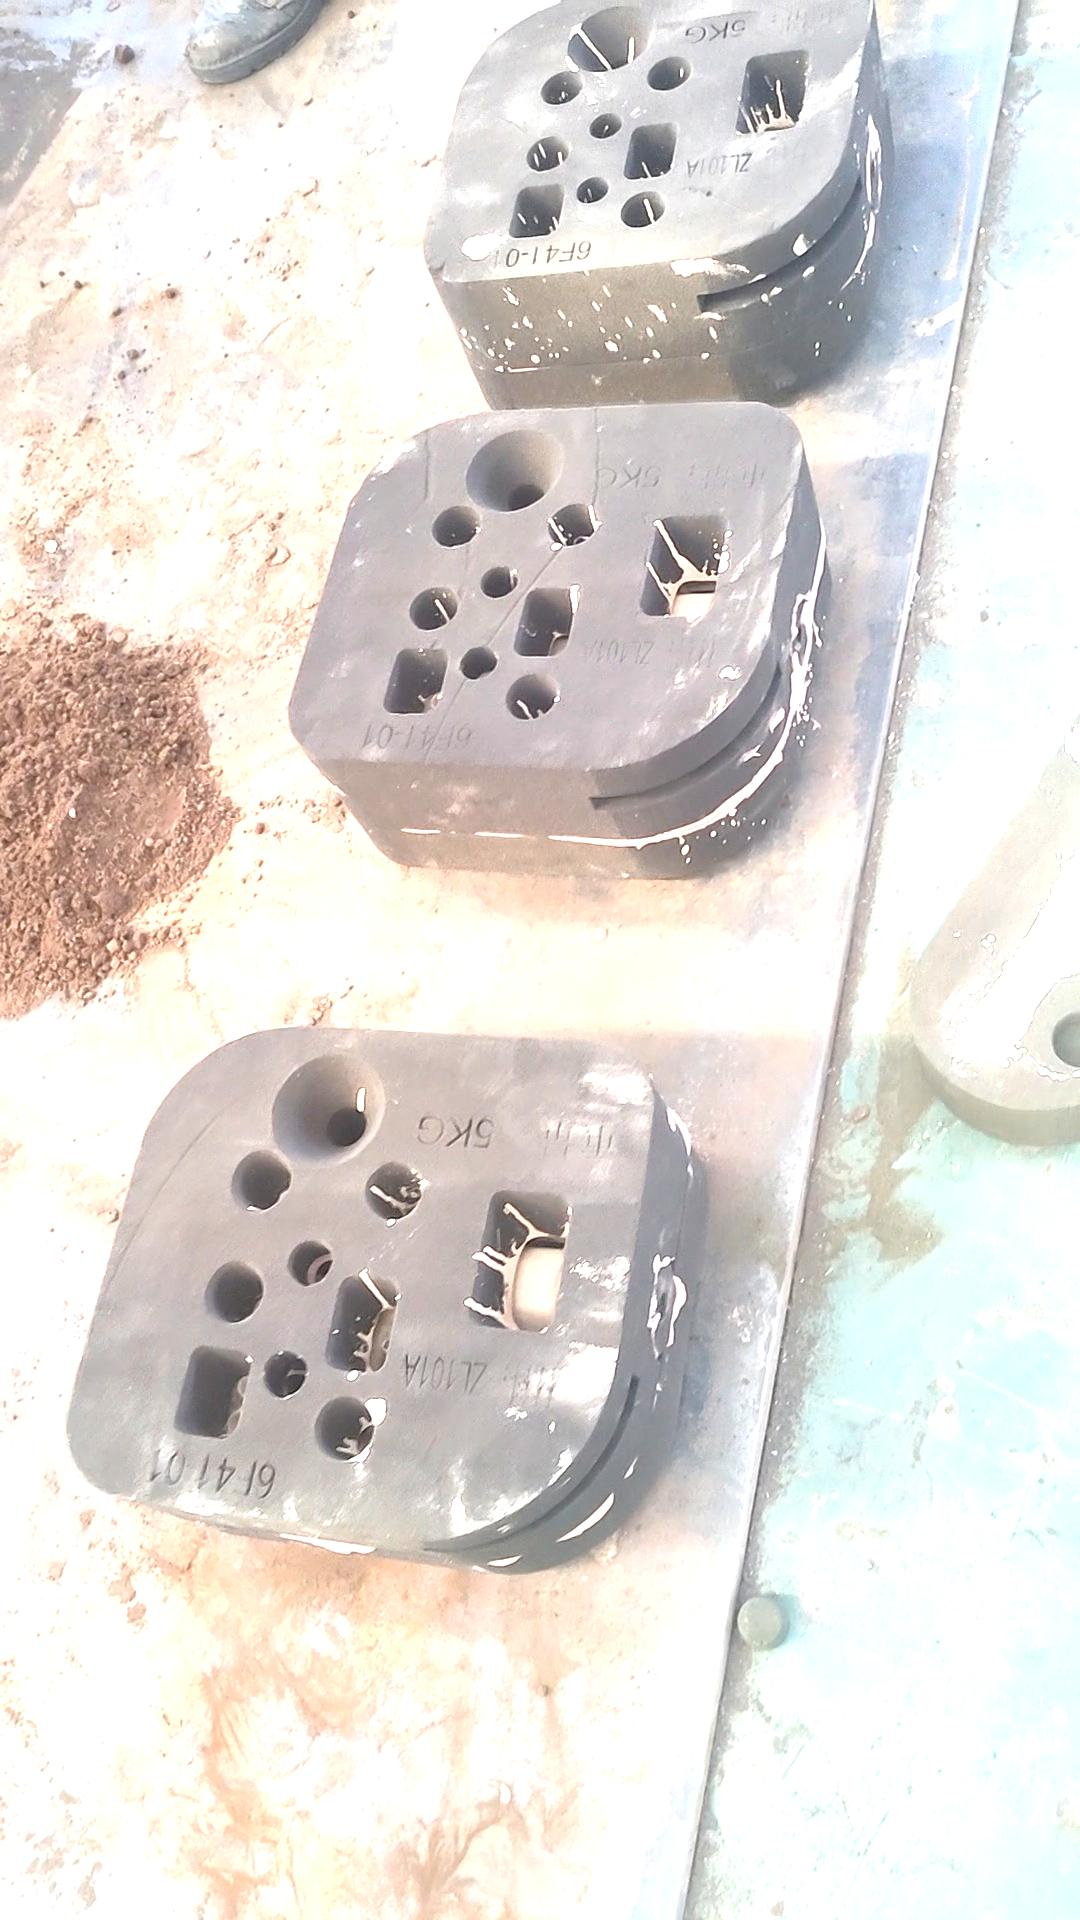pouring hole: (270, 1054, 386, 1164), (465, 427, 564, 512), (566, 5, 650, 73)
